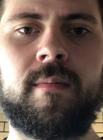without_mask: (2, 2, 103, 140)
